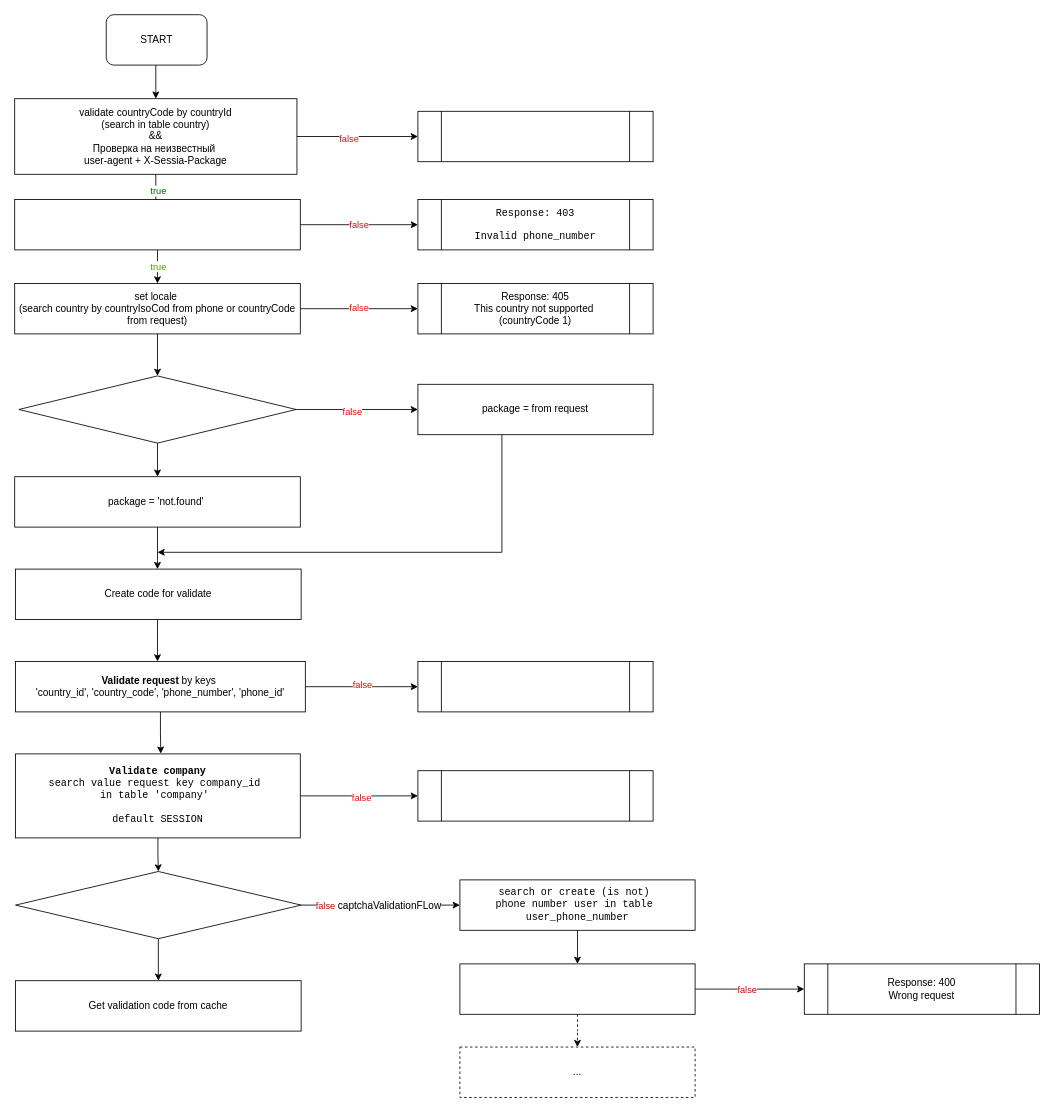
Image size: 1054x1112. Some labels were removed from this diagram. The shapes that lost their labels are listed below. From the top down, each one's centre as x and y in pixels, then its label:
(x=535, y=136): Response: 200 Send SMS 2
(x=157, y=224): validatePhoneNumber
(x=157, y=409): is countryLanguage === 7 (Вьетнамский )
(x=535, y=686): Response: 400 $error_keys. ' not found'
(x=535, y=795): Response: 403 Invalid company_id parameter
(x=158, y=905): is has request validation_code
(x=577, y=988): Check banned and phone number in UserPreferredAuth
